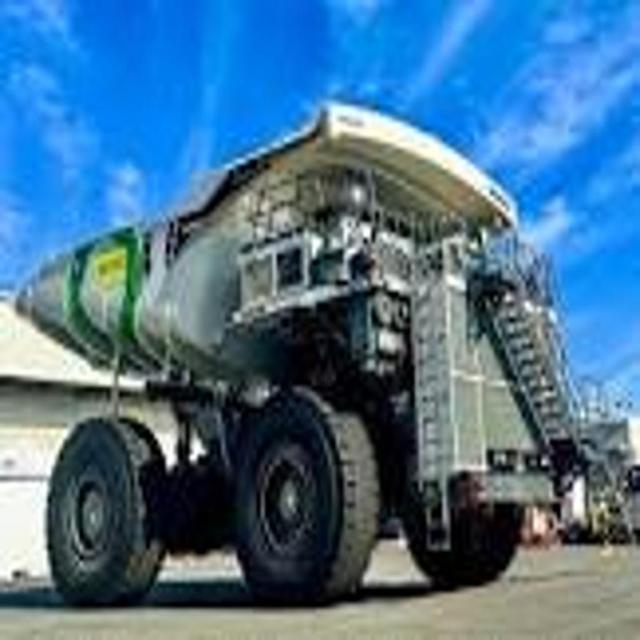dump_truck: (16, 92, 584, 608)
